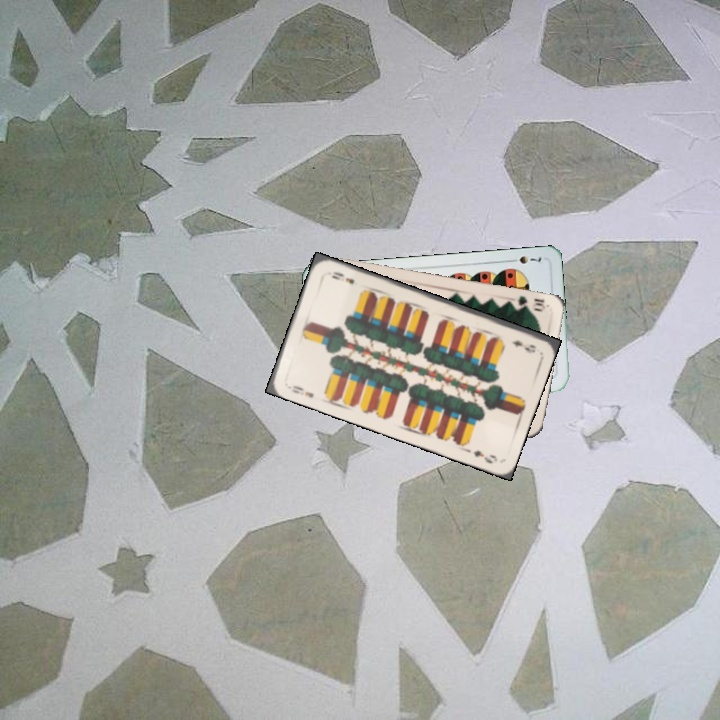E9: (283, 380, 316, 401), (507, 336, 538, 355)
G10: (508, 292, 548, 314)
S7: (505, 252, 544, 266)
